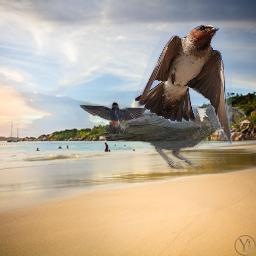Crow: (97, 101, 247, 170)
Swallow: (135, 24, 232, 145), (77, 101, 147, 135)
